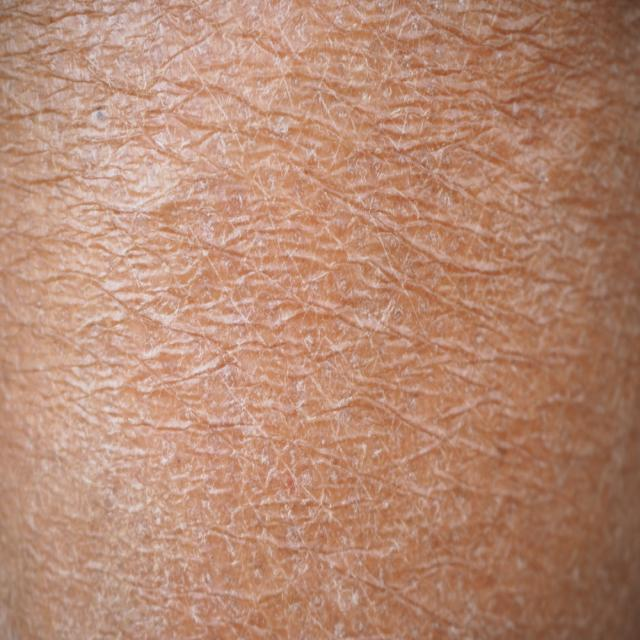dry: (46, 89, 512, 541)
